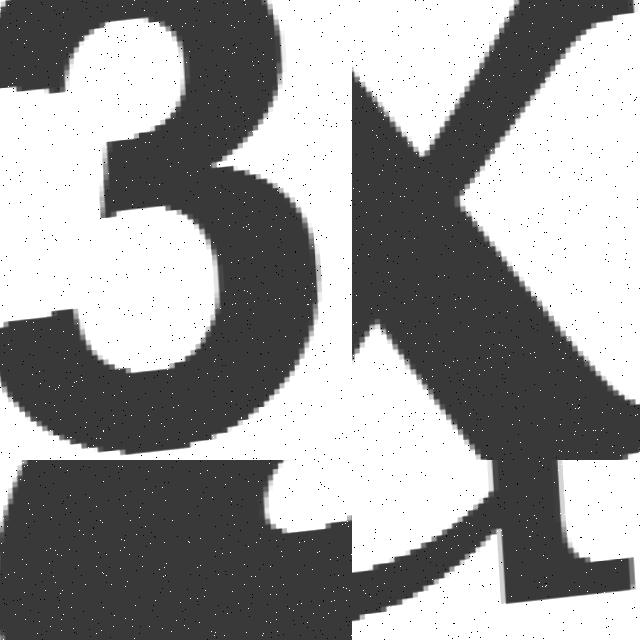3: (0, 0, 329, 460)
C: (0, 460, 352, 640)
U: (352, 460, 634, 640)
X: (352, 0, 640, 460)
